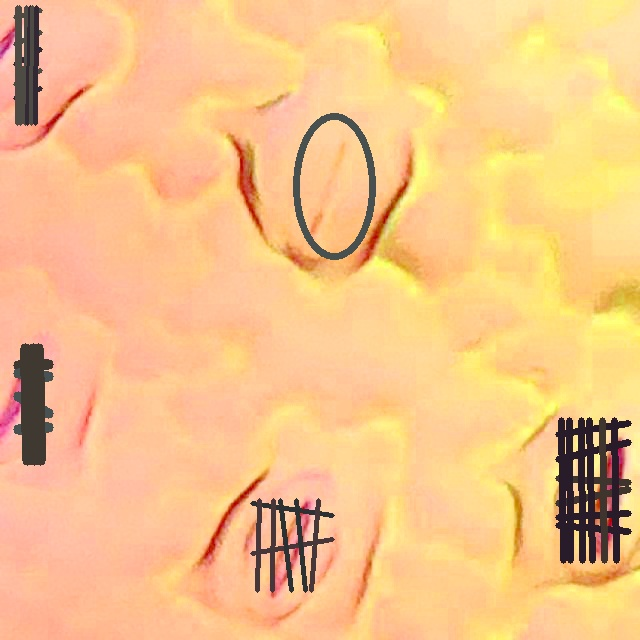close: (292, 112, 375, 261)
open: (556, 418, 630, 562), (250, 498, 334, 592), (13, 344, 52, 465), (13, 5, 42, 125)
